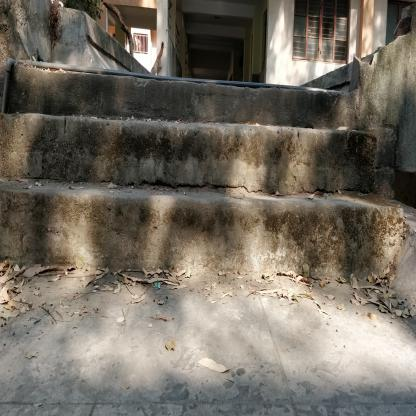stairs: (19, 80, 338, 282)
